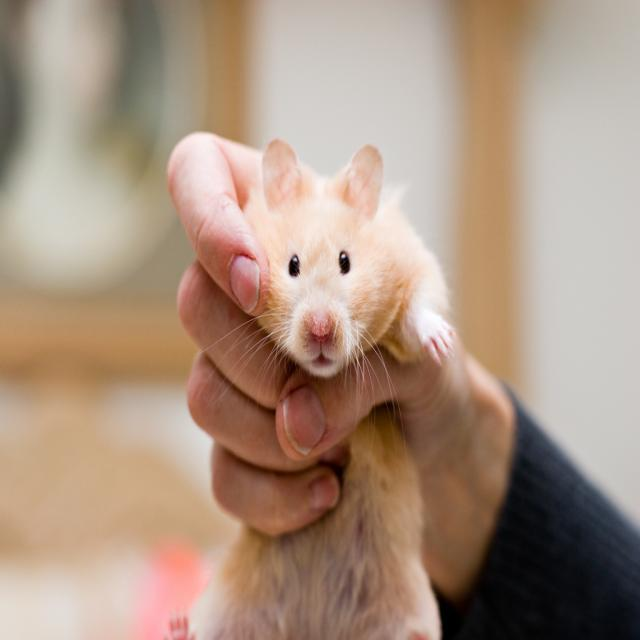rat: (192, 137, 456, 639)
